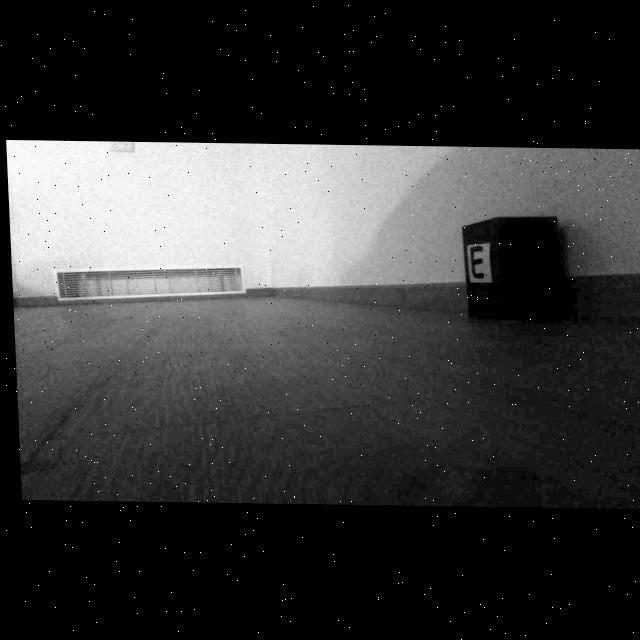E: (468, 244, 484, 278)
